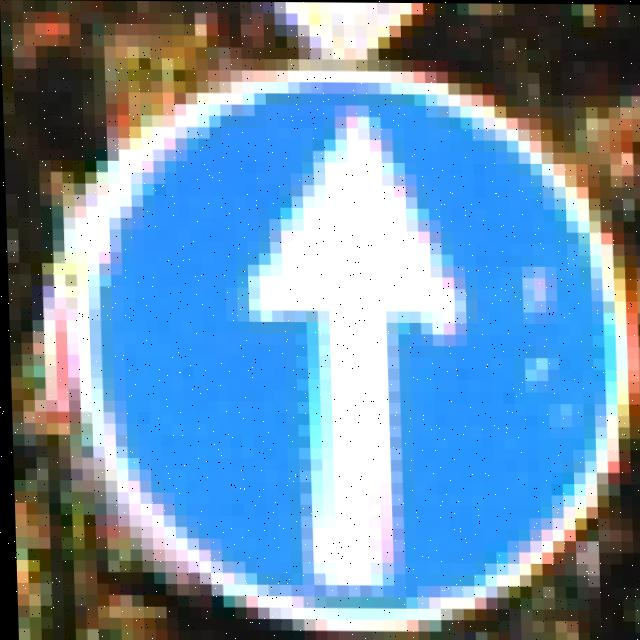compulsory_ahead: (46, 62, 609, 592)
